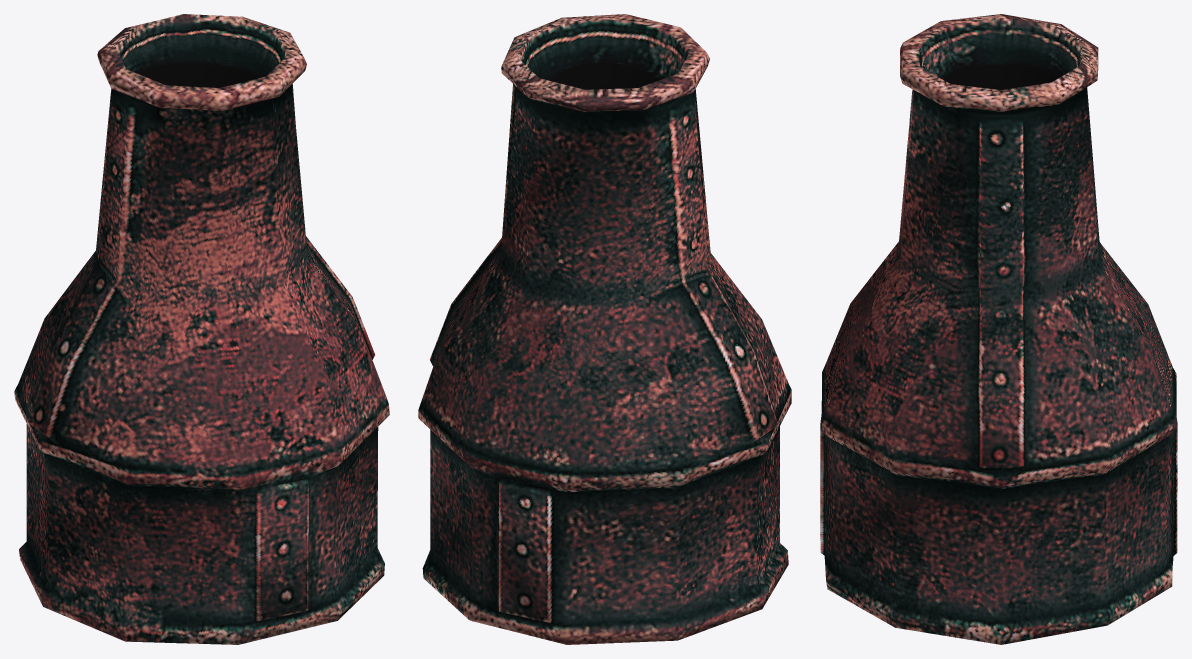
The model's file is Metal Chimney.FBX.
3 views of the same model, side by side, from view 1: azimuth 30°, elevation 25°; view 2: azimuth 150°, elevation 25°; view 3: azimuth 270°, elevation 25° (orthographic).
Parts seen in each view (by area): view 1: Metal Chimney; view 2: Metal Chimney; view 3: Metal Chimney.
Boxes of the visible parts, bbox=[...] form: Metal Chimney: bbox=[14, 14, 389, 644]; Metal Chimney: bbox=[418, 14, 791, 644]; Metal Chimney: bbox=[820, 14, 1177, 644].
Size of the model in its own units: 68.31 by 64.98 by 104.
Materials: 1 (1 with a texture image).
